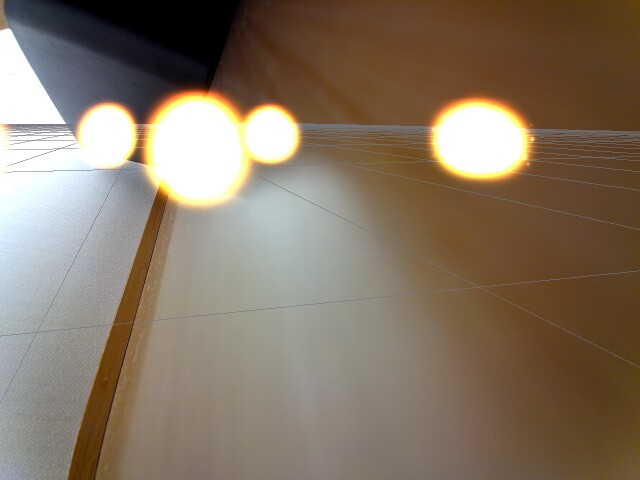firebig: (142, 81, 248, 214)
